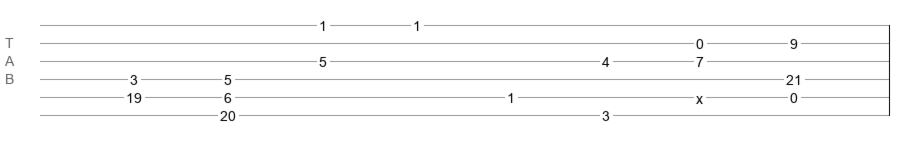0: (696, 36, 704, 46), (790, 90, 798, 100)
1: (319, 18, 327, 28), (413, 18, 421, 28), (507, 90, 515, 100)
19: (126, 90, 142, 100)
20: (220, 108, 236, 118)
21: (786, 72, 802, 82)
3: (130, 72, 138, 82), (602, 108, 610, 118)
4: (602, 54, 610, 64)
5: (224, 72, 232, 82), (319, 54, 327, 64)
6: (224, 90, 232, 100)
7: (696, 54, 704, 64)
9: (790, 36, 798, 46)
x: (696, 91, 703, 99)
